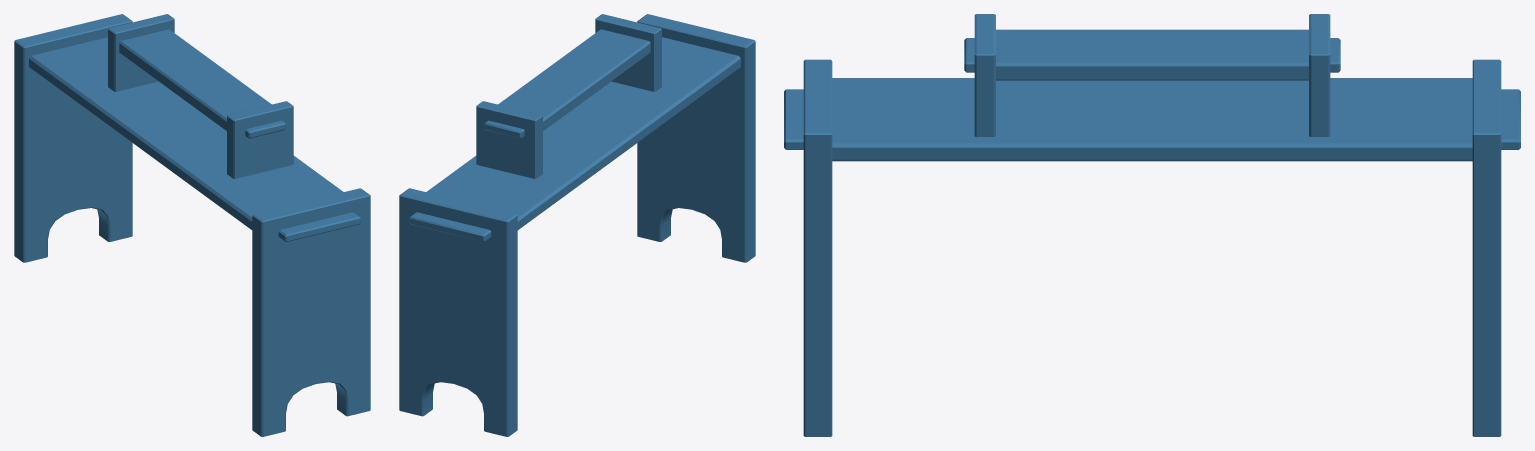
The model's file is Altair.fbx.
3 views of the same model, side by side, from view 1: azimuth 30°, elevation 25°; view 2: azimuth 150°, elevation 25°; view 3: azimuth 270°, elevation 25° (orthographic). The views are drawn at different scales.
Visible parts, largest first — view 1: Altar001; view 2: Altar001; view 3: Altar001.
Boxes of the visible parts, <box> form: Altar001: <box>14,14,370,436</box>; Altar001: <box>399,14,755,436</box>; Altar001: <box>784,14,1520,436</box>.
Size of the model in its own units: 42.46 by 97.95 by 176.
